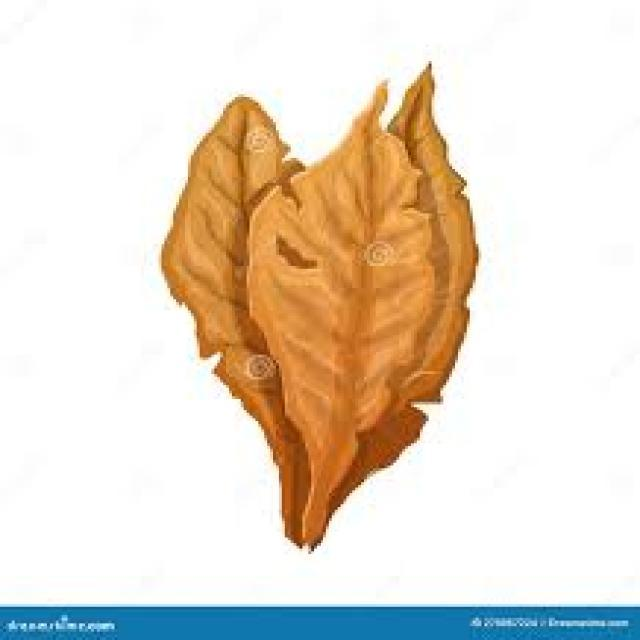leaf: (159, 60, 480, 552)
